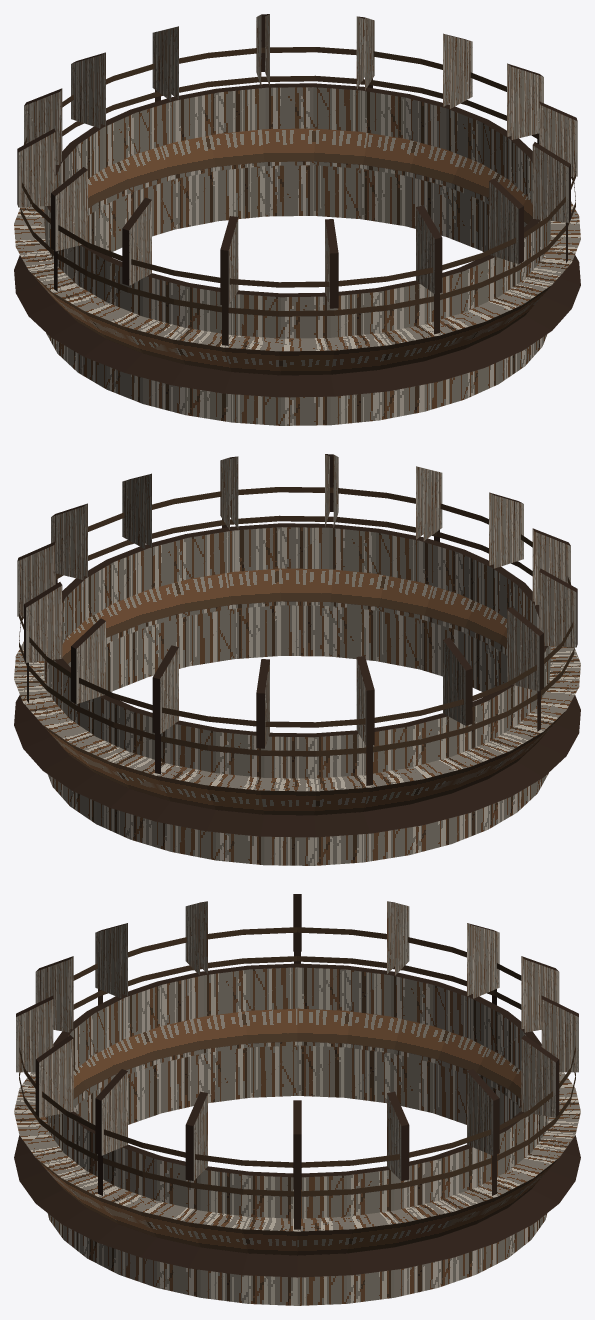
Rendered from TOR-02_Corona_de_torre_a.gltf.
The picture shows the model from 3 angles, top to bottom: view 1: azimuth 30°, elevation 25°; view 2: azimuth 150°, elevation 25°; view 3: azimuth 270°, elevation 25°; orthographic projection.
Parts seen in each view (by area): view 1: TOR-02_Corona_de_torre_a-col; view 2: TOR-02_Corona_de_torre_a-col; view 3: TOR-02_Corona_de_torre_a-col.
Boxes of the visible parts, x1,y1,x2,y2 form: TOR-02_Corona_de_torre_a-col: (14, 14, 580, 425); TOR-02_Corona_de_torre_a-col: (14, 454, 580, 865); TOR-02_Corona_de_torre_a-col: (14, 894, 580, 1305).
Bounding box in the file's own units: 5.6 × 2.2 × 5.6.
1 material, 1 textured.
